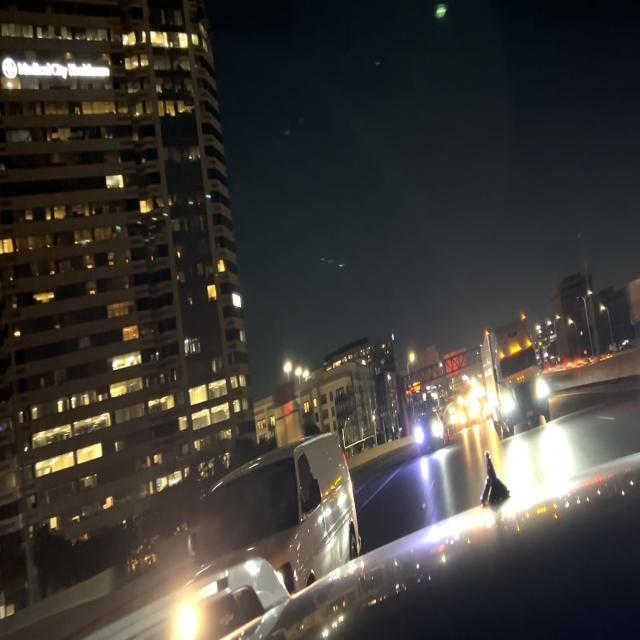back-of-sign: (414, 347, 442, 389), (445, 346, 470, 380)
